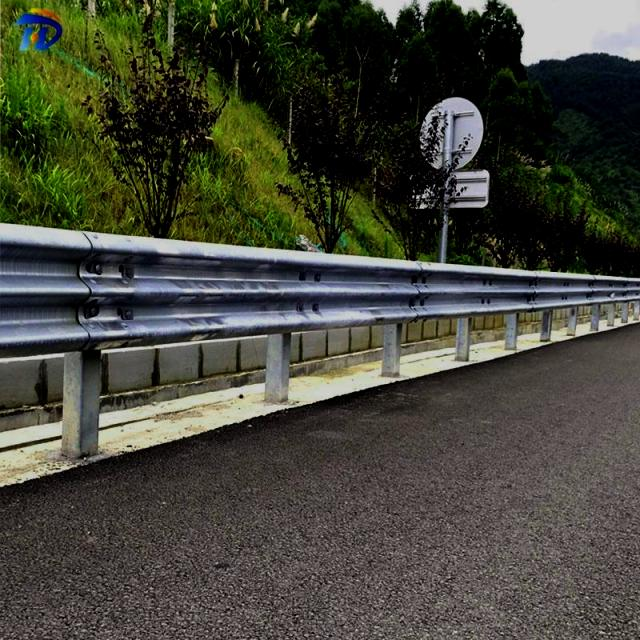Guard rail: (0, 224, 640, 357)
